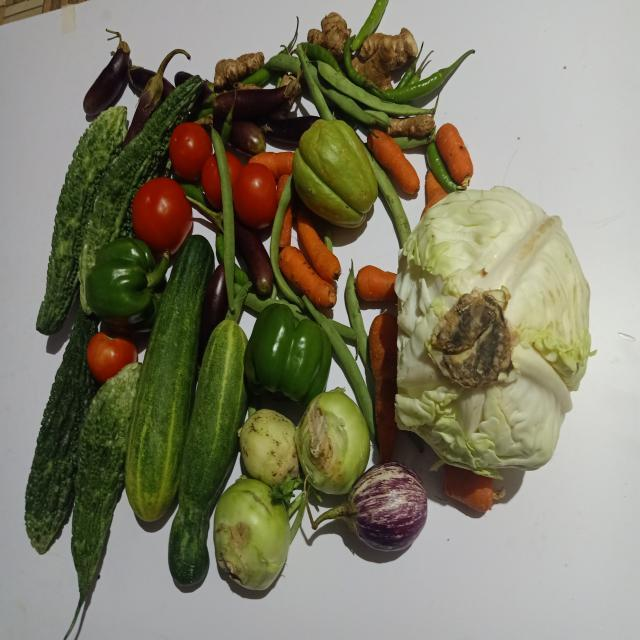Beans: (318, 60, 431, 115)
Bitter Gourd: (63, 362, 142, 639), (35, 105, 126, 335), (24, 308, 96, 555)
Cabbage: (396, 186, 592, 478)
Capsicum: (244, 303, 332, 406), (84, 237, 168, 332)
Carrot: (297, 205, 341, 282), (368, 129, 420, 193), (436, 122, 474, 187)
Chayote: (292, 118, 378, 227)
Cucumber: (125, 234, 214, 522)
Eggplant: (309, 462, 428, 552)
Ginger: (352, 27, 419, 88)
Tomato: (131, 177, 192, 253), (233, 162, 277, 228), (169, 121, 212, 180)
Turnip: (213, 479, 291, 591), (294, 388, 370, 494), (238, 409, 299, 486), (282, 351, 284, 356)
